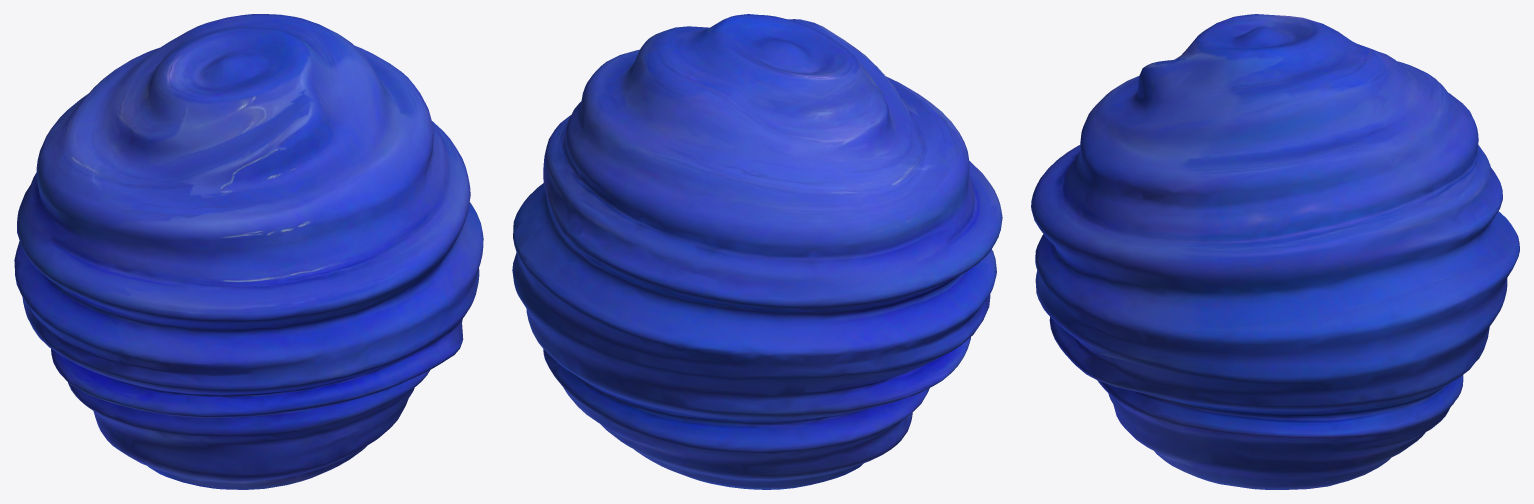
Rendered from Azure_Swirl_Sphere_0411190809_texture.glb.
The picture shows the model from 3 angles, left to right: view 1: azimuth 30°, elevation 25°; view 2: azimuth 150°, elevation 25°; view 3: azimuth 270°, elevation 25°; orthographic projection. The views are drawn at different scales.
Bounding box in the file's own units: 2 × 1.95 × 1.98.
Materials: 1 (1 with a texture image).
